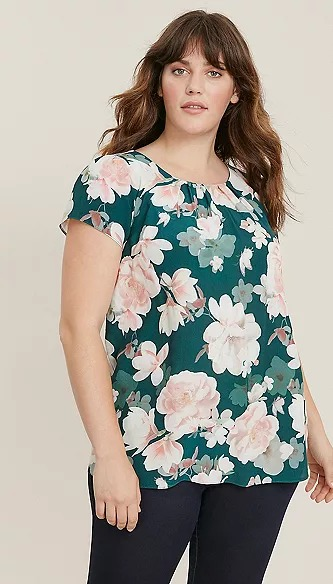C_short blouse: (57, 151, 329, 510)
